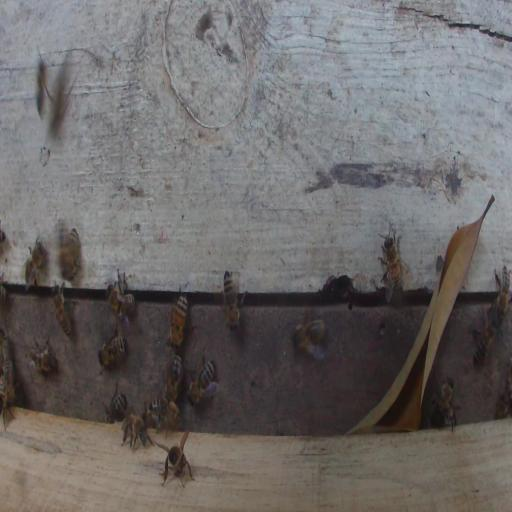bee: (160, 430, 195, 489), (186, 358, 217, 407), (221, 268, 245, 331), (106, 268, 136, 318), (472, 308, 499, 363), (292, 317, 327, 356), (36, 46, 53, 119), (430, 376, 454, 427), (23, 238, 47, 288), (98, 329, 127, 370), (50, 284, 72, 338), (381, 238, 401, 295), (490, 265, 510, 321), (59, 226, 78, 281), (28, 337, 56, 374), (121, 413, 148, 451), (170, 292, 188, 348), (103, 383, 128, 423), (150, 398, 180, 429), (165, 352, 183, 402), (2, 357, 15, 406), (496, 393, 510, 418), (475, 331, 477, 335)
